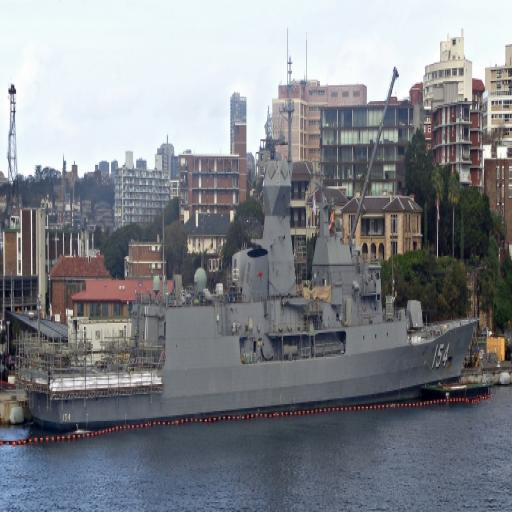Fragata: (18, 96, 482, 442)
